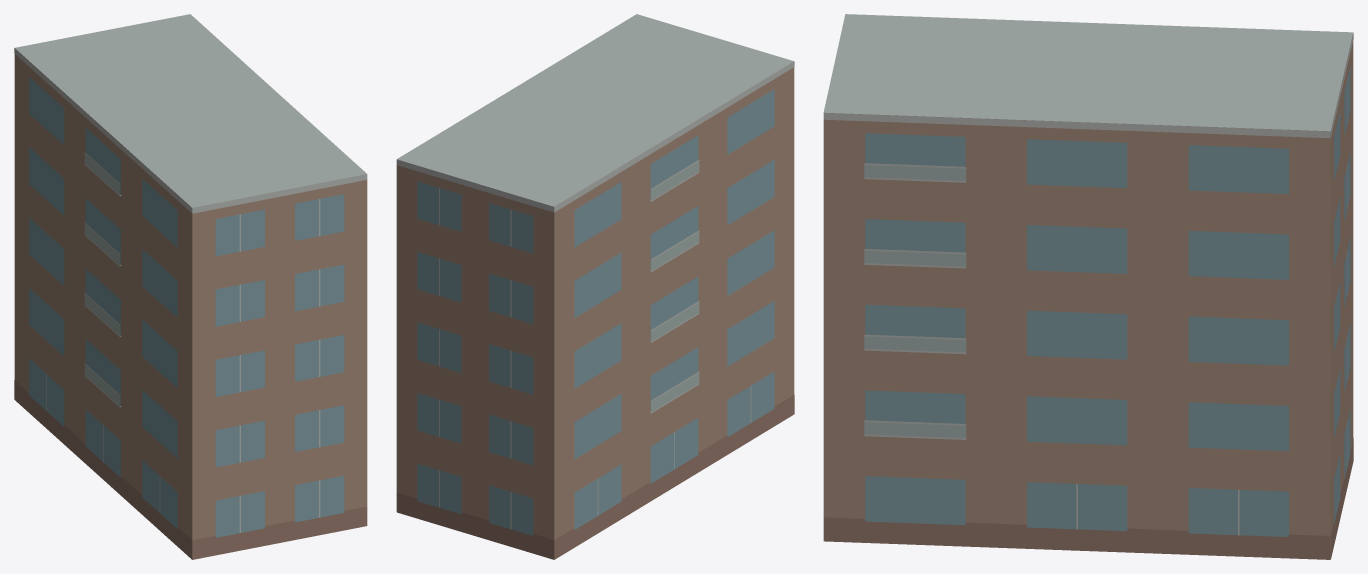
File: survey-upis-32753862.glb
The picture shows the model from 3 angles, left to right: view 1: azimuth 30°, elevation 25°; view 2: azimuth 150°, elevation 25°; view 3: azimuth 270°, elevation 25°; orthographic projection. The views are drawn at different scales.
Visible parts, largest first — view 1: survey-upis-32753862.tmp; view 2: survey-upis-32753862.tmp; view 3: survey-upis-32753862.tmp.
Part boxes in pixels (left/top/right/bottom): survey-upis-32753862.tmp: left=14, top=14, right=367, bottom=559; survey-upis-32753862.tmp: left=396, top=14, right=794, bottom=559; survey-upis-32753862.tmp: left=823, top=14, right=1353, bottom=559.
Bounding box in the file's own units: 8.81 × 15 × 16.82.
